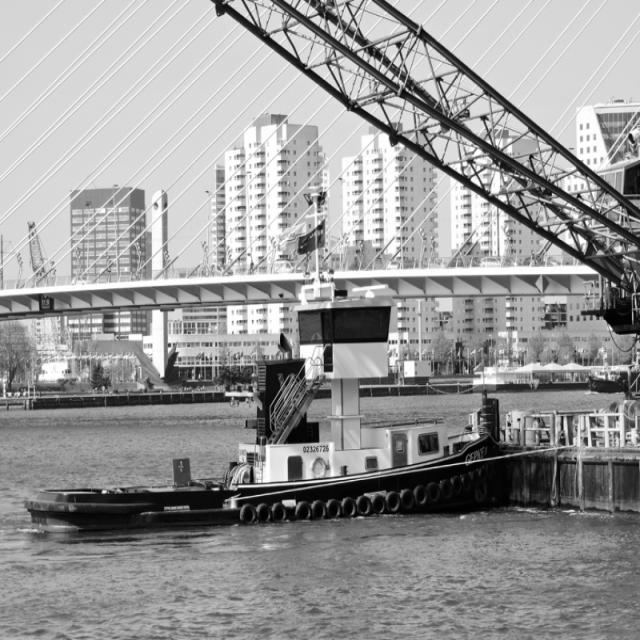tugboat: (23, 291, 532, 544)
